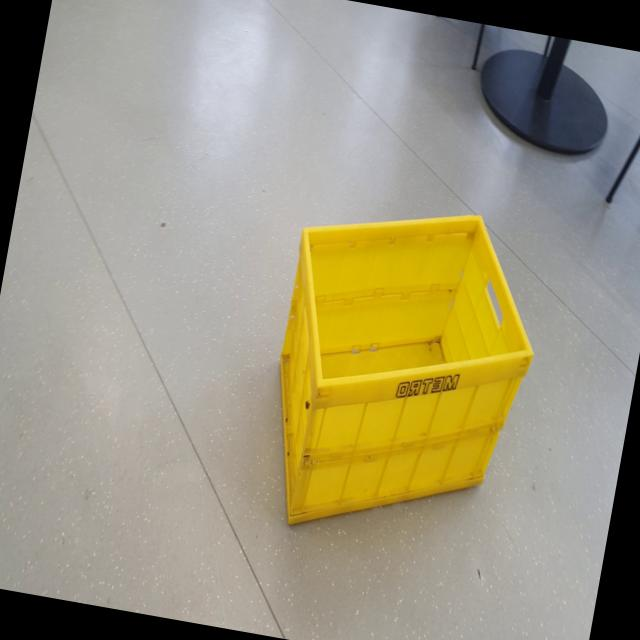box: (229, 170, 570, 568)
